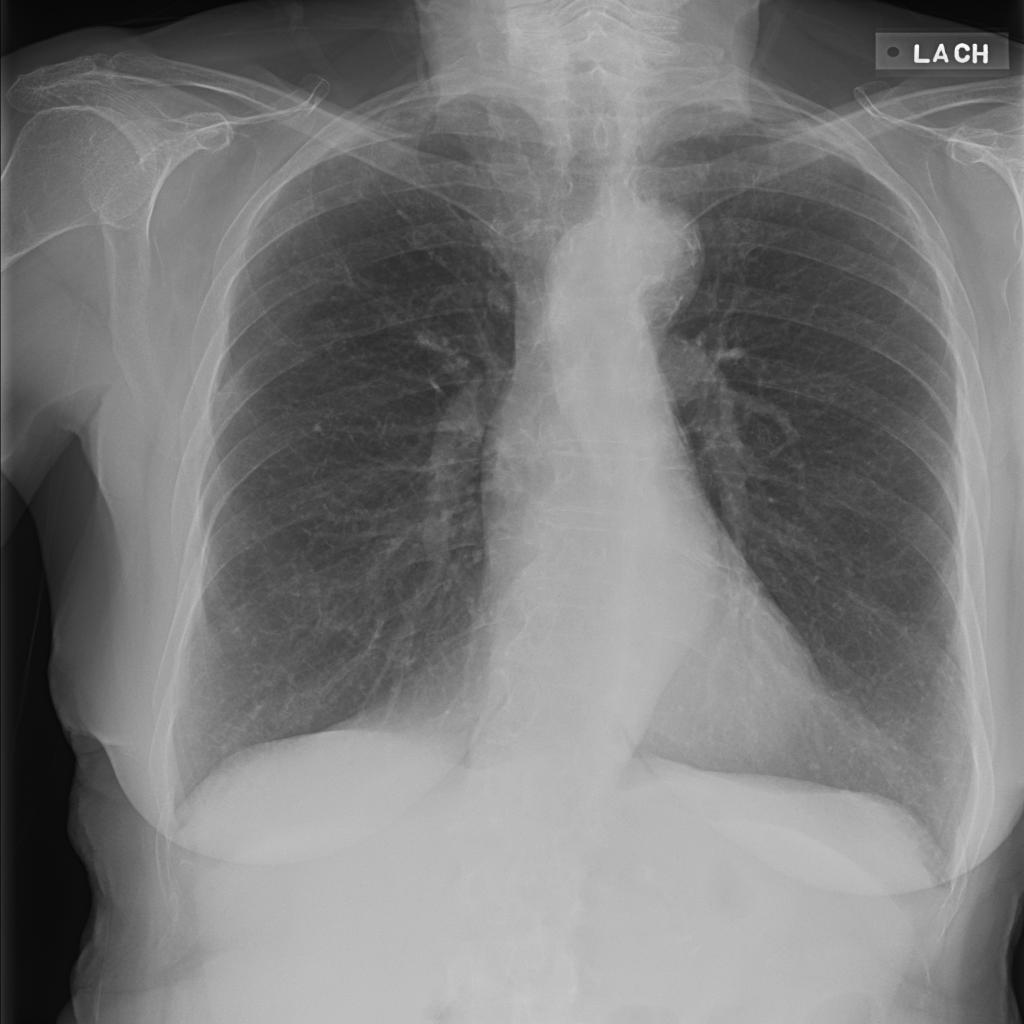Nodule: (534, 277, 589, 315), (271, 135, 320, 172), (541, 324, 582, 357)
